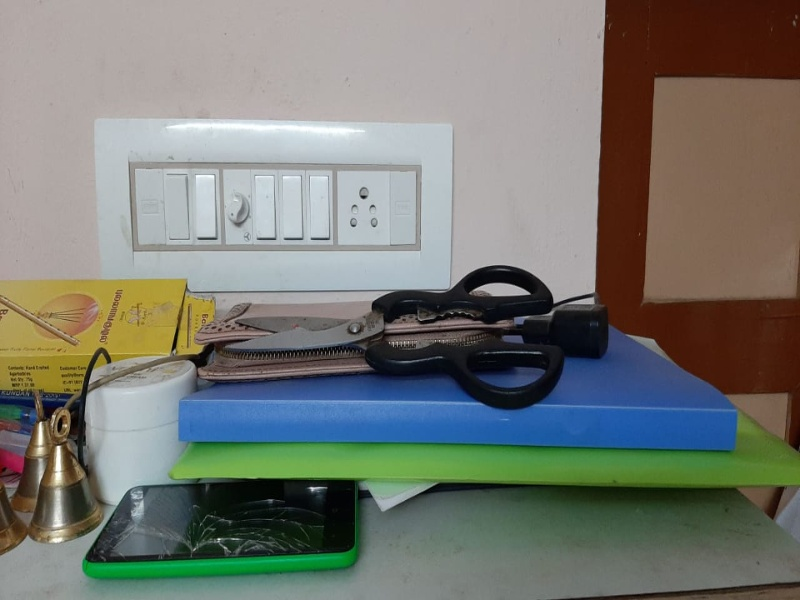scissor: (220, 258, 564, 412)
